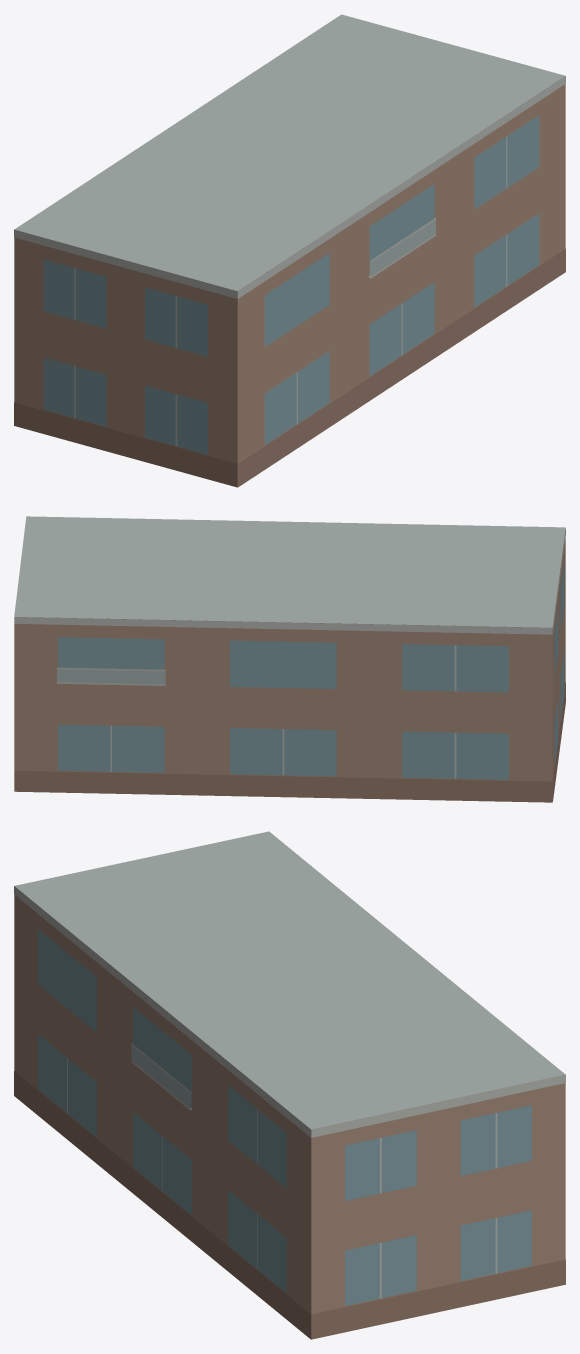
Rendered from survey-upis-32700771.glb.
The picture shows the model from 3 angles, top to bottom: view 1: azimuth 30°, elevation 25°; view 2: azimuth 150°, elevation 25°; view 3: azimuth 270°, elevation 25°; orthographic projection. The views are drawn at different scales.
Visible parts, largest first — view 1: survey-upis-32700771.tmp; view 2: survey-upis-32700771.tmp; view 3: survey-upis-32700771.tmp.
Boxes of the visible parts, <box> form: survey-upis-32700771.tmp: <box>14,14,565,487</box>; survey-upis-32700771.tmp: <box>14,516,565,802</box>; survey-upis-32700771.tmp: <box>14,831,565,1339</box>.
Bounding box in the file's own units: 18.6 × 6.1 × 14.54.
